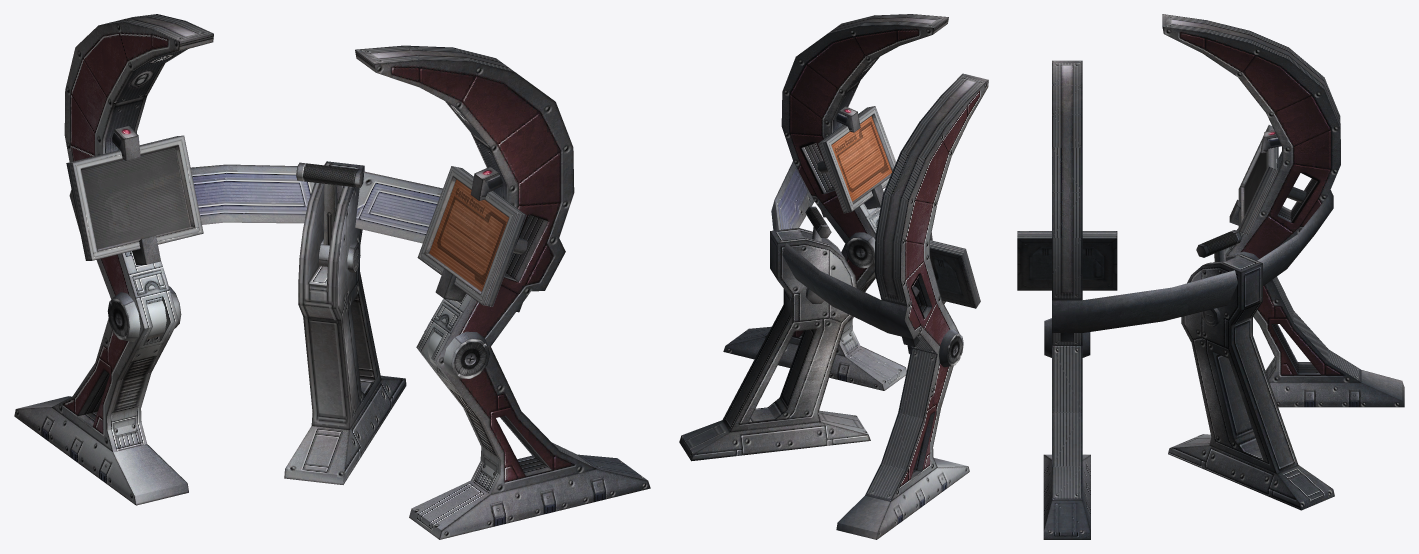
Rendered from colony_control.glb.
The picture shows the model from 3 angles, left to right: view 1: azimuth 30°, elevation 25°; view 2: azimuth 150°, elevation 25°; view 3: azimuth 270°, elevation 25°; orthographic projection. The views are drawn at different scales.
Visible parts, largest first — view 1: Terminal; view 2: Terminal; view 3: Terminal.
Boxes of the visible parts, bbox=[...] form: Terminal: bbox=[14, 14, 650, 539]; Terminal: bbox=[679, 14, 988, 539]; Terminal: bbox=[1017, 14, 1404, 539].
Bounding box in the file's own units: 122 × 131 × 122.
Materials: 1 (1 with a texture image).
